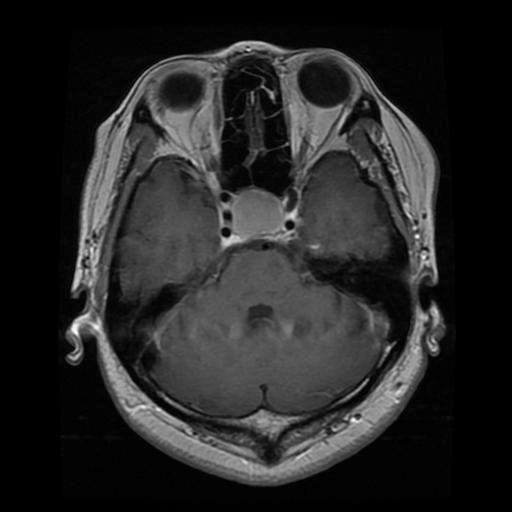Tumour-Pituitary: (219, 185, 301, 251)
